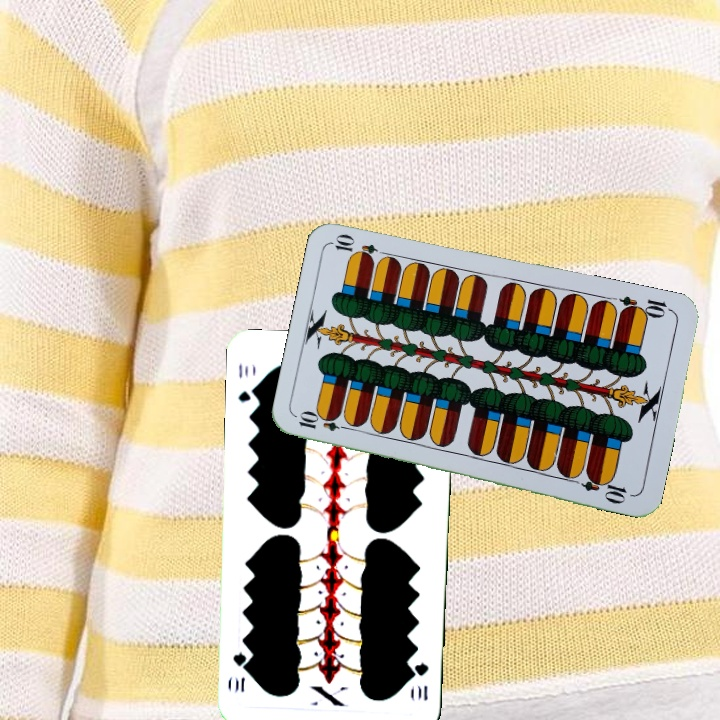E10: (616, 292, 675, 321), (294, 410, 354, 434)
G10: (234, 359, 259, 405), (411, 659, 431, 703)
